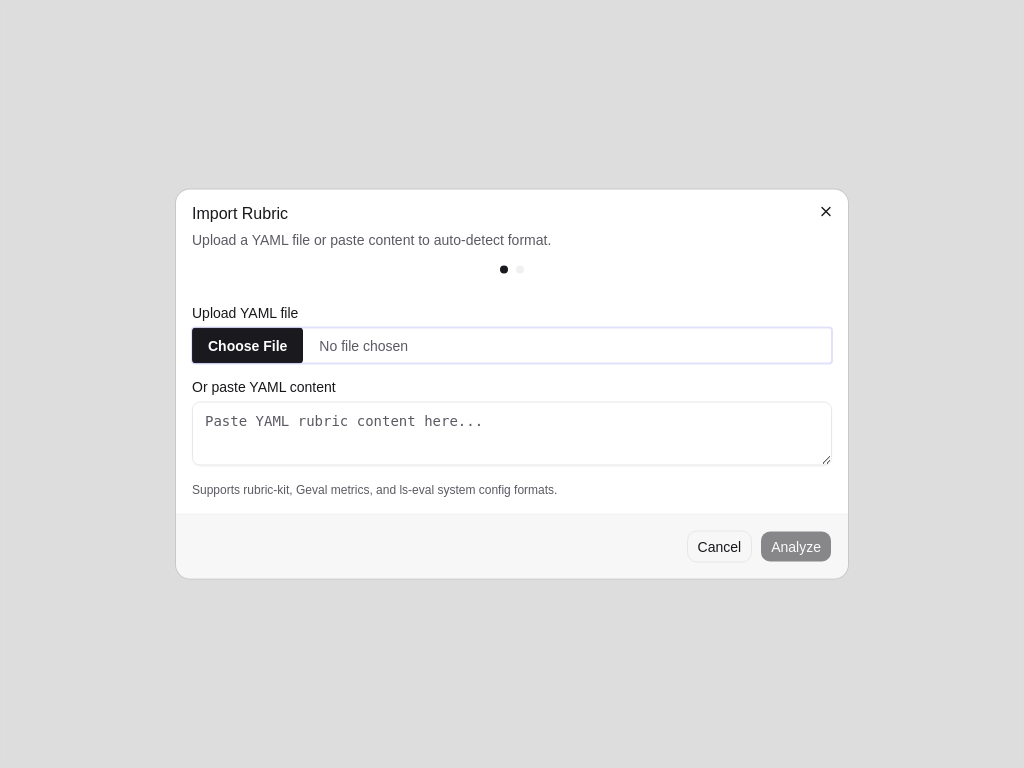
Test: RubricImportDialog › shows error on analyze failure
Step 1. Type "bad yaml" into the text box with placeholder "Paste YAML rubric content here..." → (512, 434), box [192,402,832,466]
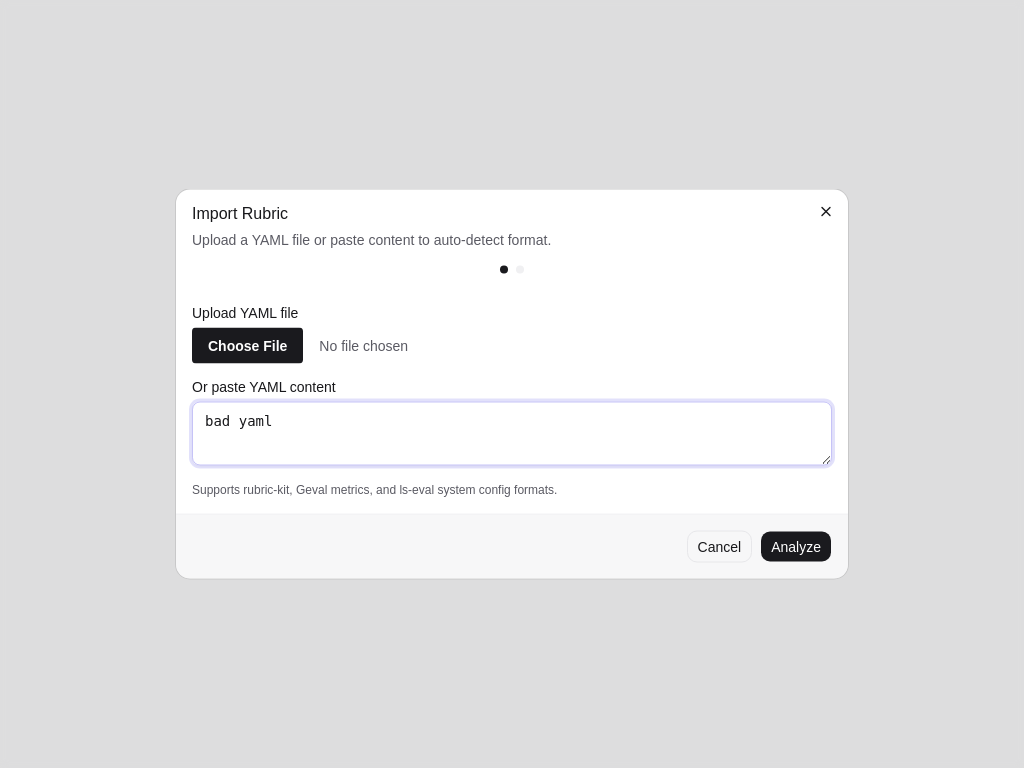
Step 2. Click the button with test id "analyze-button" → (796, 546), box [760,530,832,562]
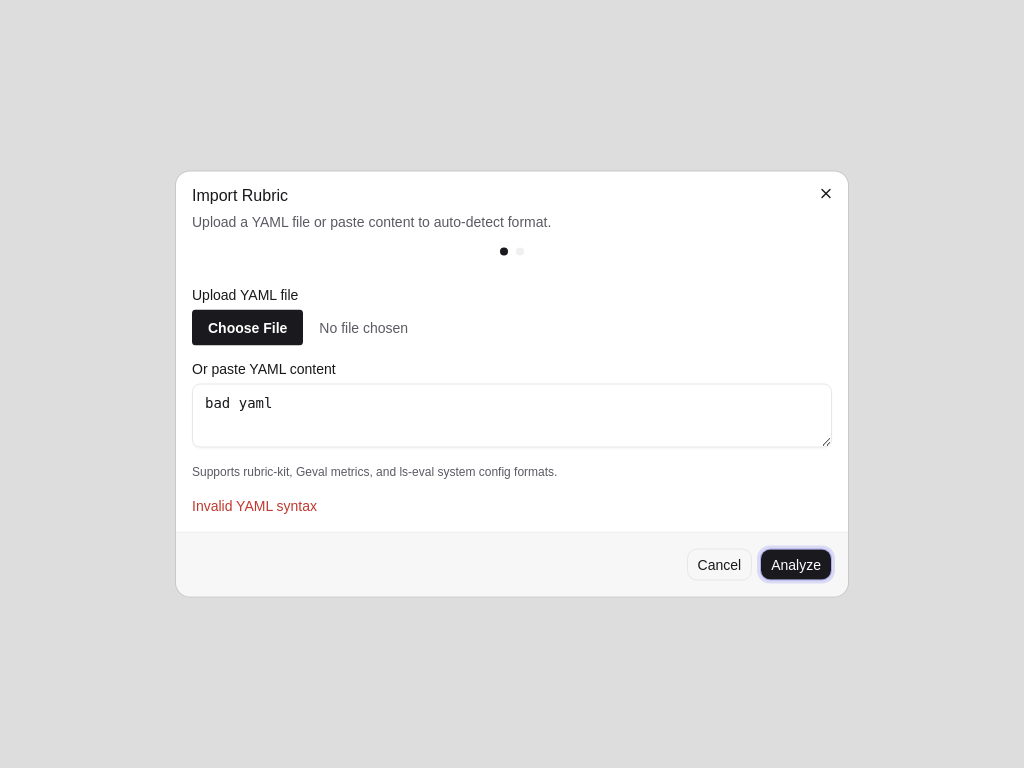
Now the text "Invalid YAML syntax" is shown, box [192,498,317,514]
